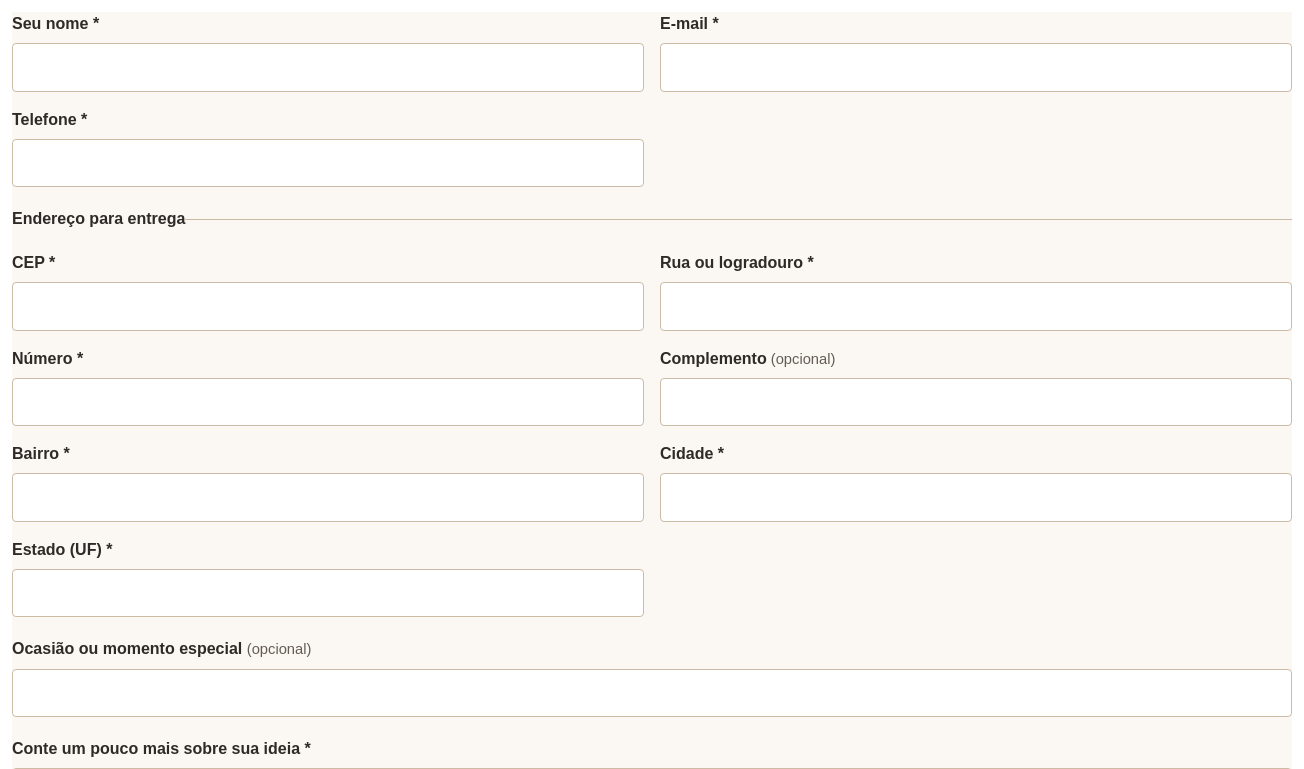
InquiryForm › consulta novamente um CEP completo após uma edição intermediária
Type "01001-000" into the field labelled "CEP *".
click(328, 306); type("01001-000")  # box x1=12 y1=282 x2=644 y2=331
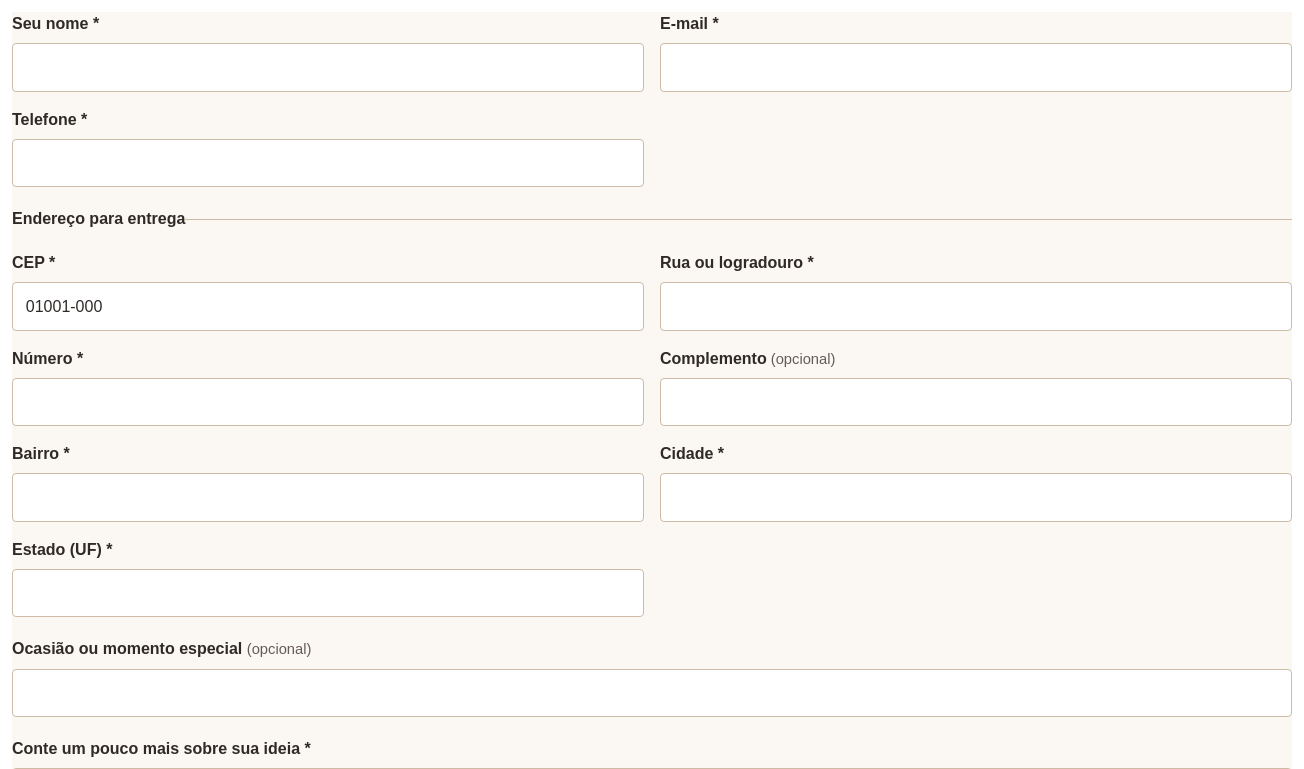
Replace the text in the field labelled "CEP *" with "01001" at (328, 306), box x1=12 y1=282 x2=644 y2=331
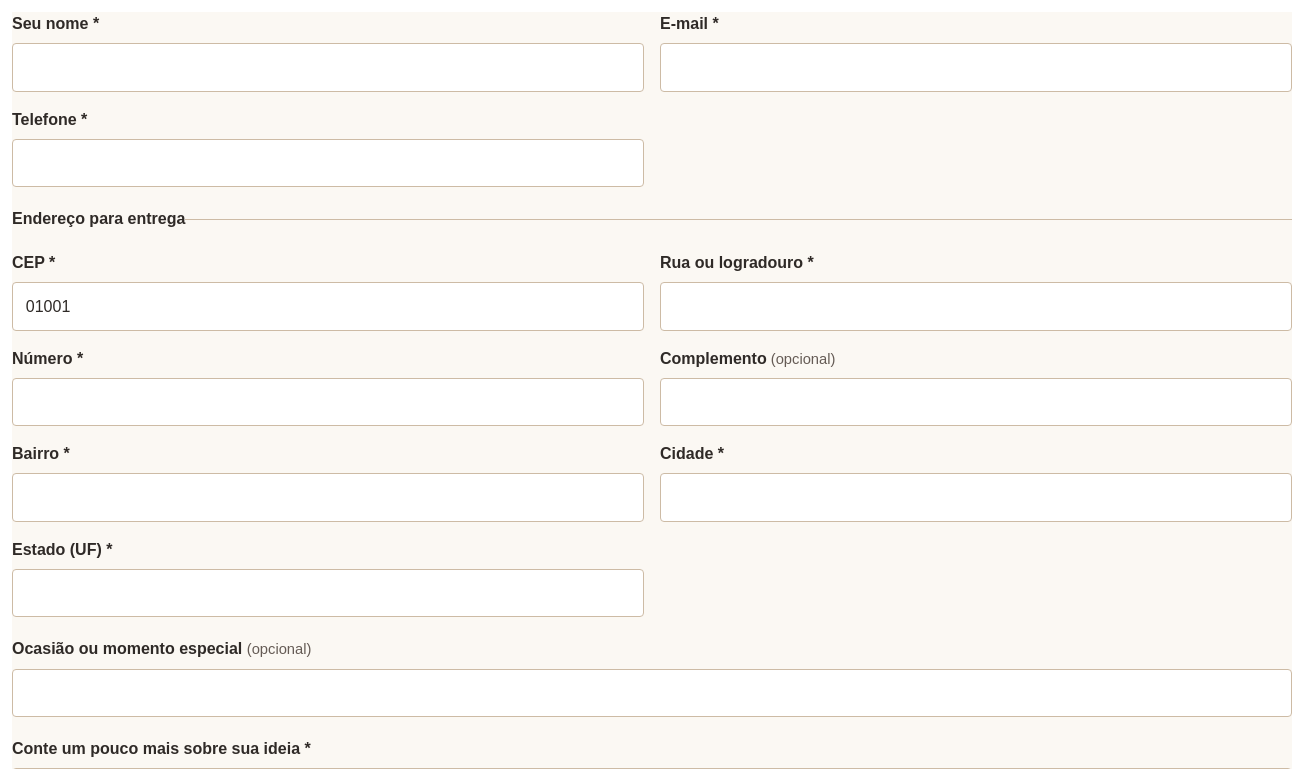
Replace the text in the field labelled "CEP *" with "01001-000" at (328, 306), box x1=12 y1=282 x2=644 y2=331
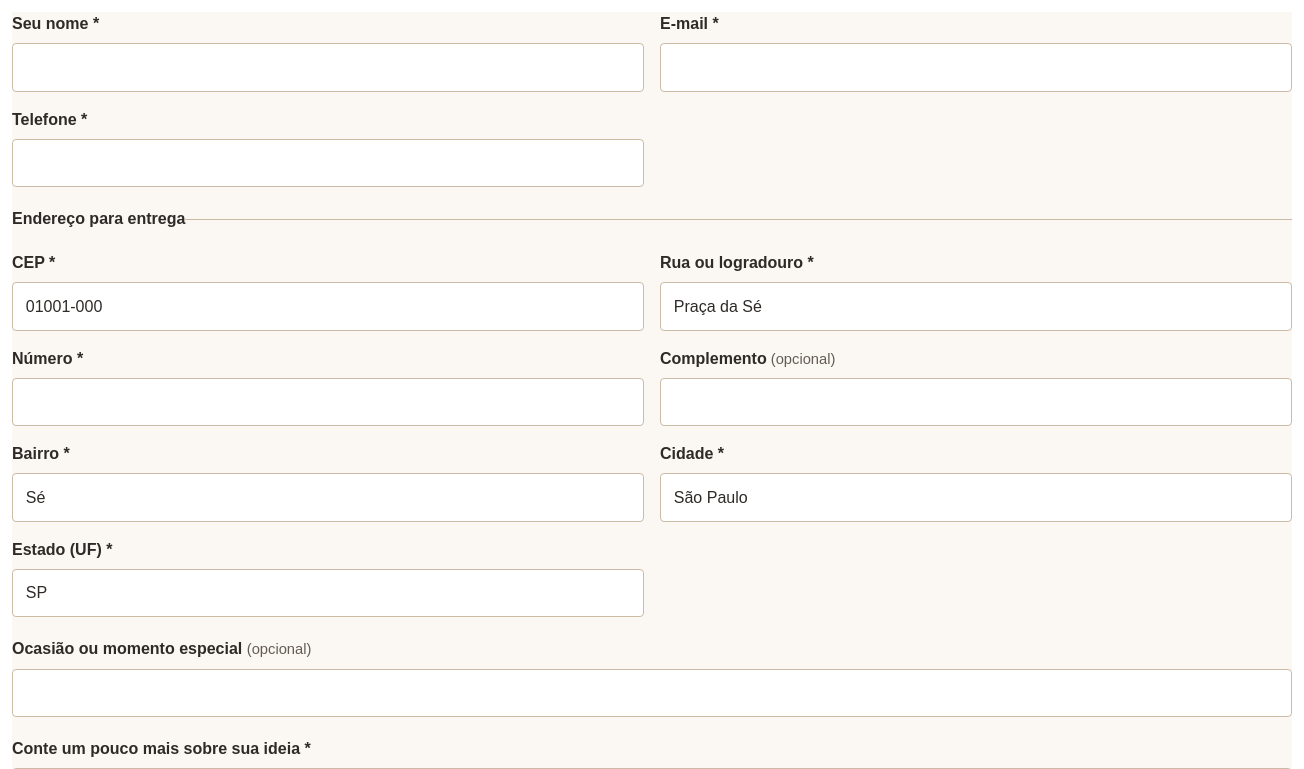
Expected: the field labelled "Rua ou logradouro *" holds "Praça da Sé", x1=660 y1=282 x2=1292 y2=331
